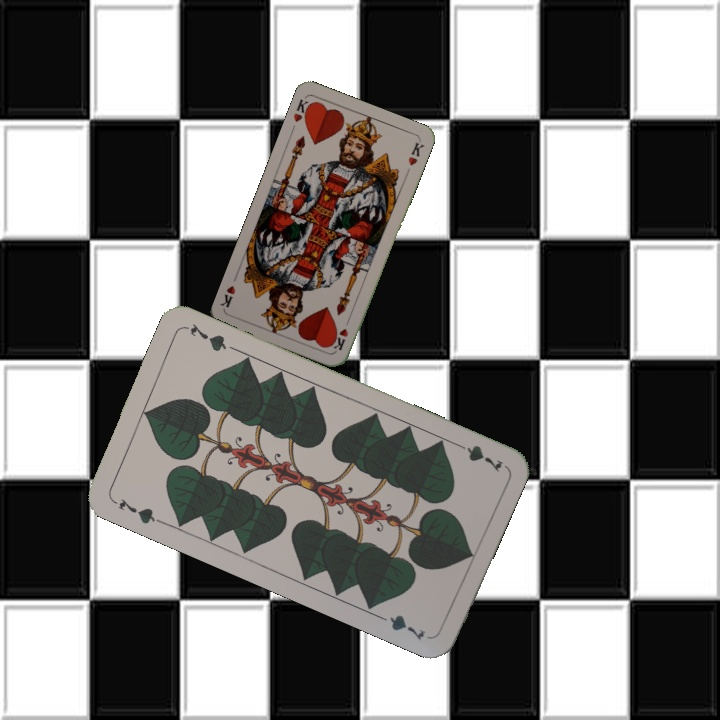G7: (450, 438, 506, 474), (108, 494, 164, 527)
HK: (330, 314, 353, 353), (289, 94, 315, 125)
